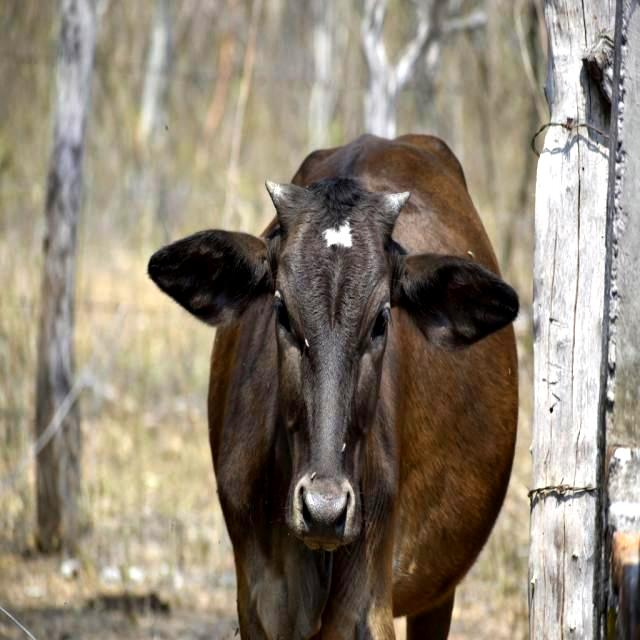COW: (149, 135, 518, 640)
